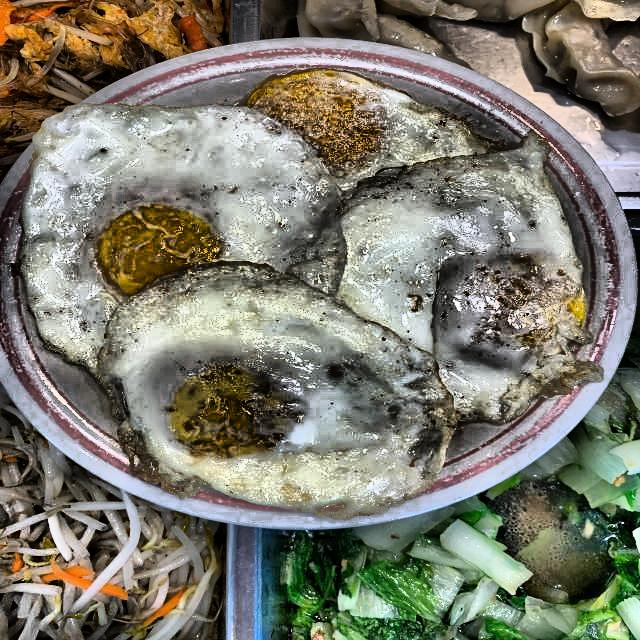Food: (67, 42, 516, 619), (512, 430, 640, 640)
